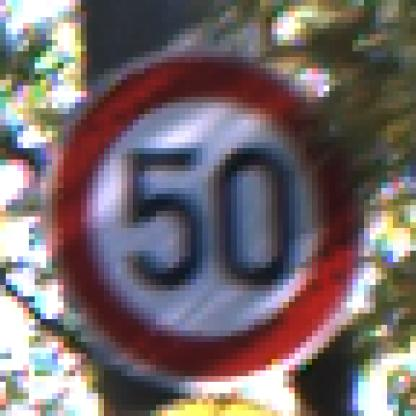Speed Limit 50: (49, 53, 356, 382)
